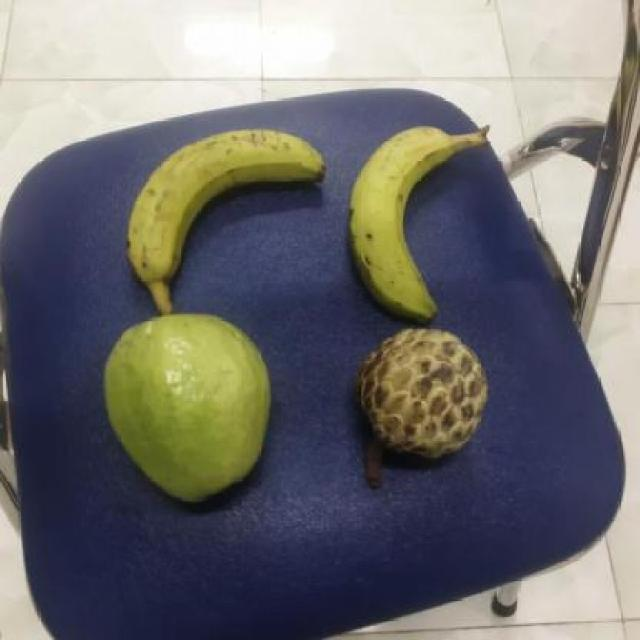banana: (123, 120, 328, 294), (342, 121, 467, 321)
guava: (99, 302, 276, 508)
sugar apple: (352, 321, 490, 461)
